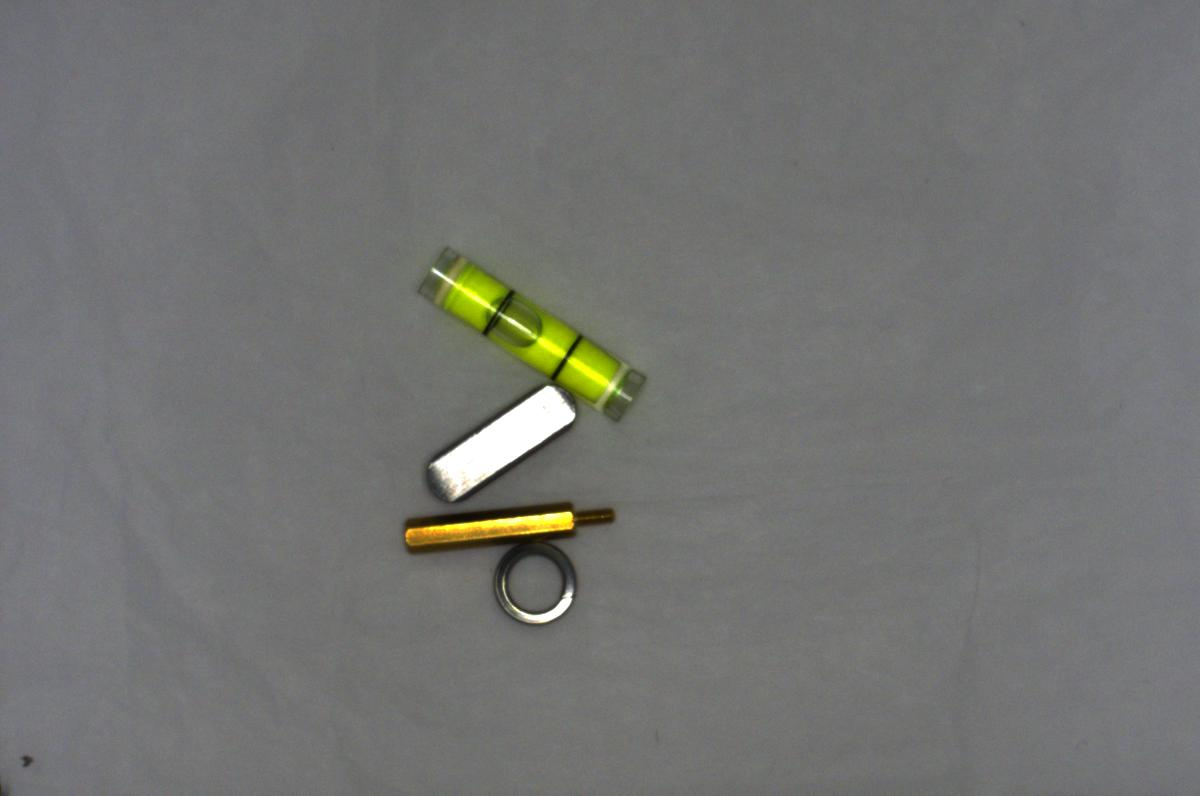Hexagon pillar: (392, 498, 627, 554)
Horizontal bubble: (412, 246, 650, 419)
Keybar: (424, 383, 582, 501)
Spring washer: (493, 538, 585, 632)
